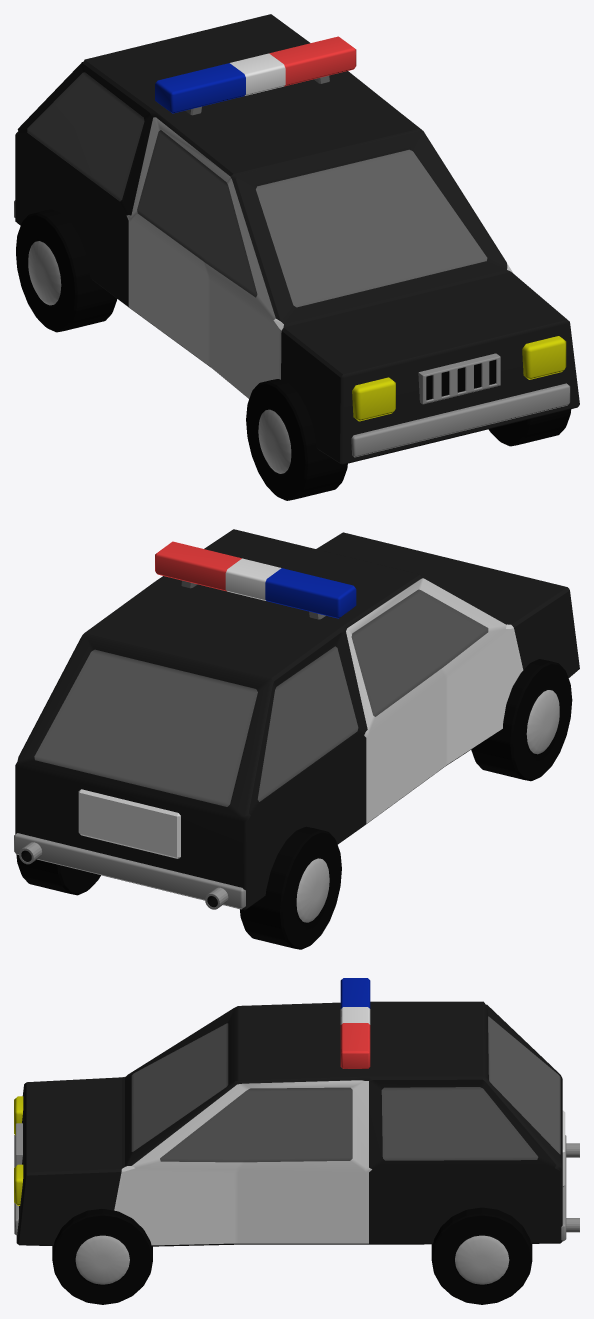
The model's file is Ambulanta.fbx.
The picture shows the model from 3 angles, top to bottom: view 1: azimuth 30°, elevation 25°; view 2: azimuth 150°, elevation 25°; view 3: azimuth 270°, elevation 25°; orthographic projection. The views are drawn at different scales.
Visible parts, largest first — view 1: PoliceCar, Wheel4, Wheel2, Wheel1; view 2: PoliceCar, Wheel4, Wheel2, Wheel3; view 3: PoliceCar, Wheel3, Wheel1.
Part boxes in pixels (x1,y1,x2,y2): PoliceCar: (14, 14, 579, 464); Wheel4: (16, 209, 116, 332); Wheel2: (246, 379, 347, 500); Wheel1: (488, 409, 571, 446); PoliceCar: (14, 529, 579, 910); Wheel4: (240, 826, 341, 949); Wheel2: (471, 659, 572, 781); Wheel3: (16, 854, 100, 895); PoliceCar: (14, 978, 579, 1246); Wheel3: (431, 1207, 532, 1304); Wheel1: (52, 1209, 152, 1304).
Bounding box in the file's own units: 2.34 × 2.33 × 5.04.
